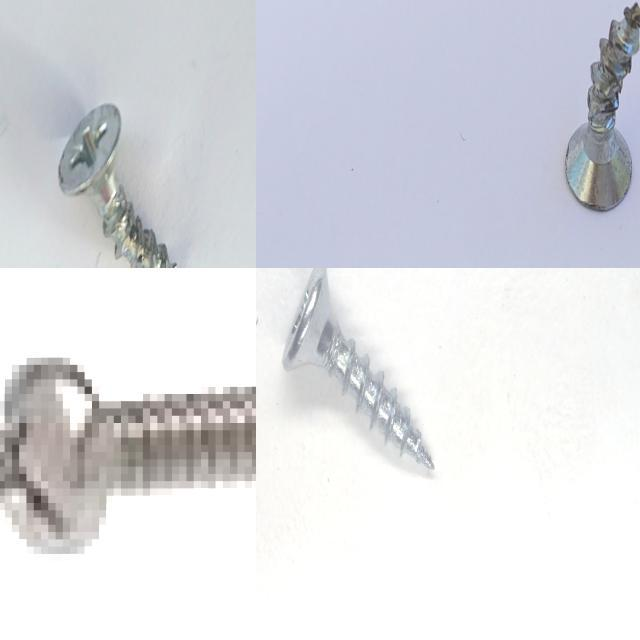Screw: (0, 358, 256, 554), (280, 268, 437, 471), (59, 103, 177, 268), (566, 2, 640, 210)
